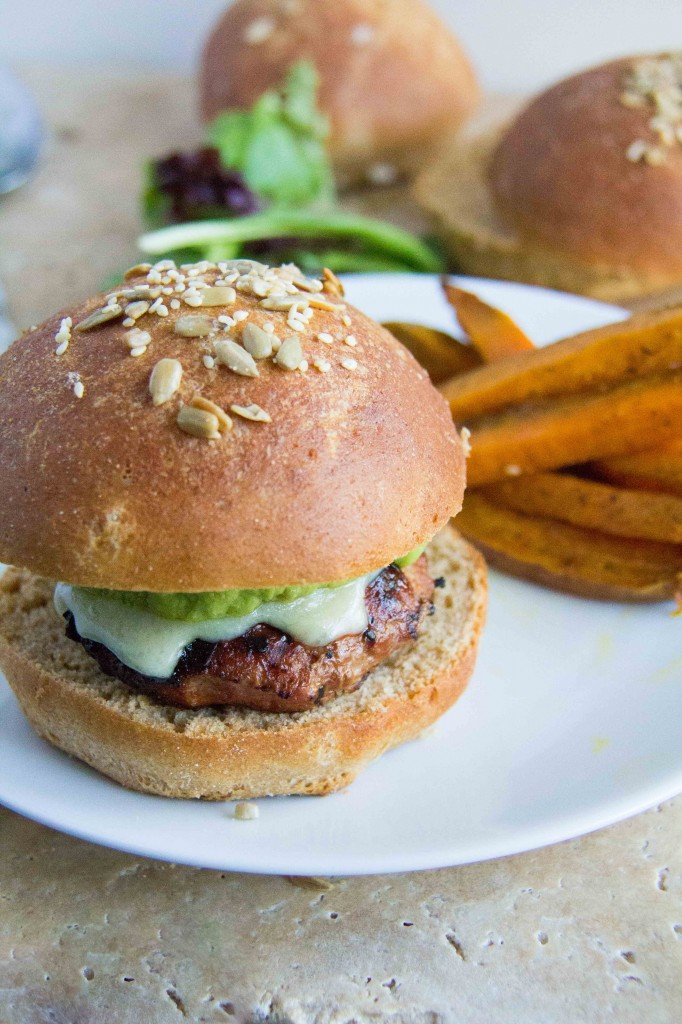hamburger_buns: (1, 250, 453, 819)
